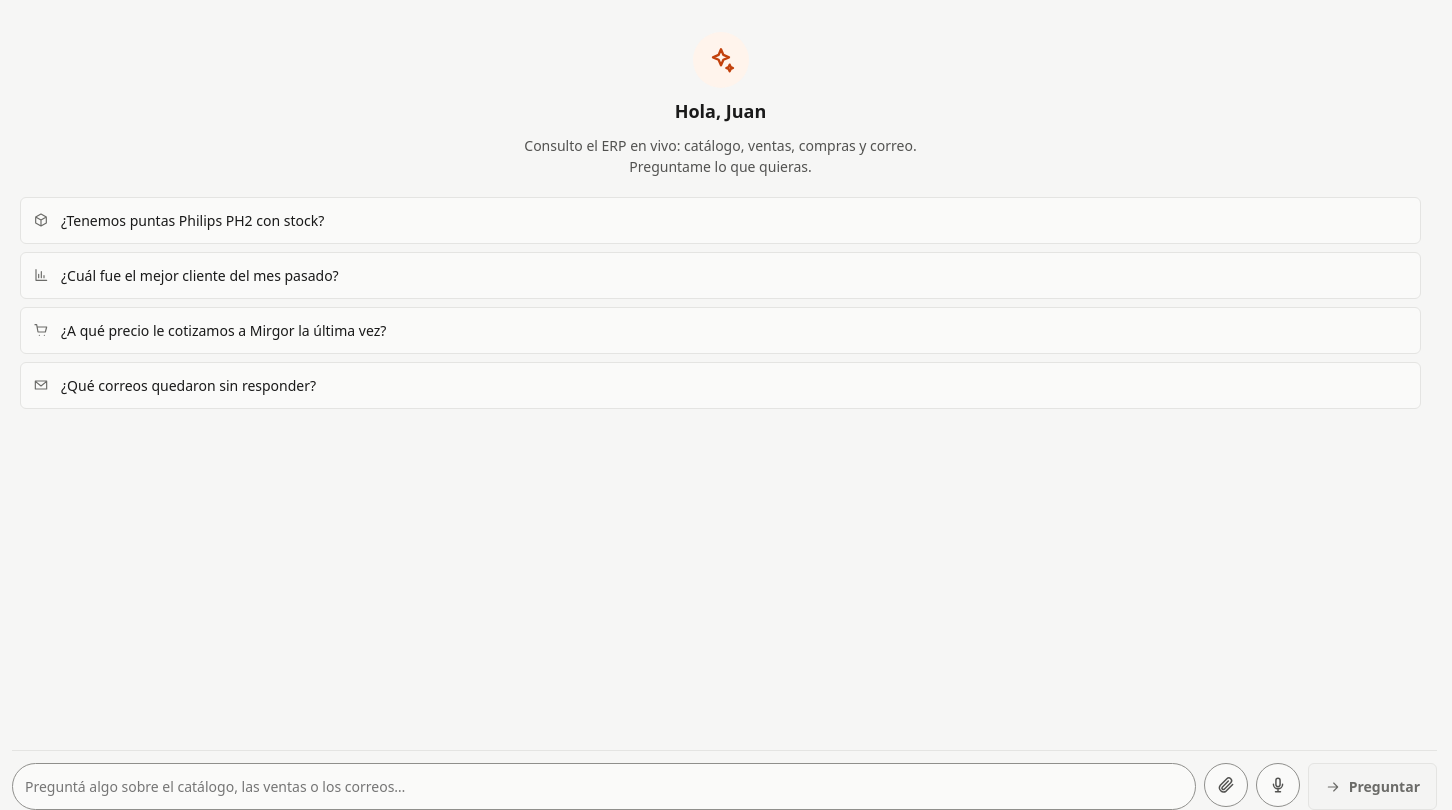
it: El chat del asistente › un fallo se muestra en el hilo y no rompe la pantalla
The image size is (1452, 810).
Type "algo" into the field named "Tu pregunta" at (604, 786), box [12,763,1196,809]
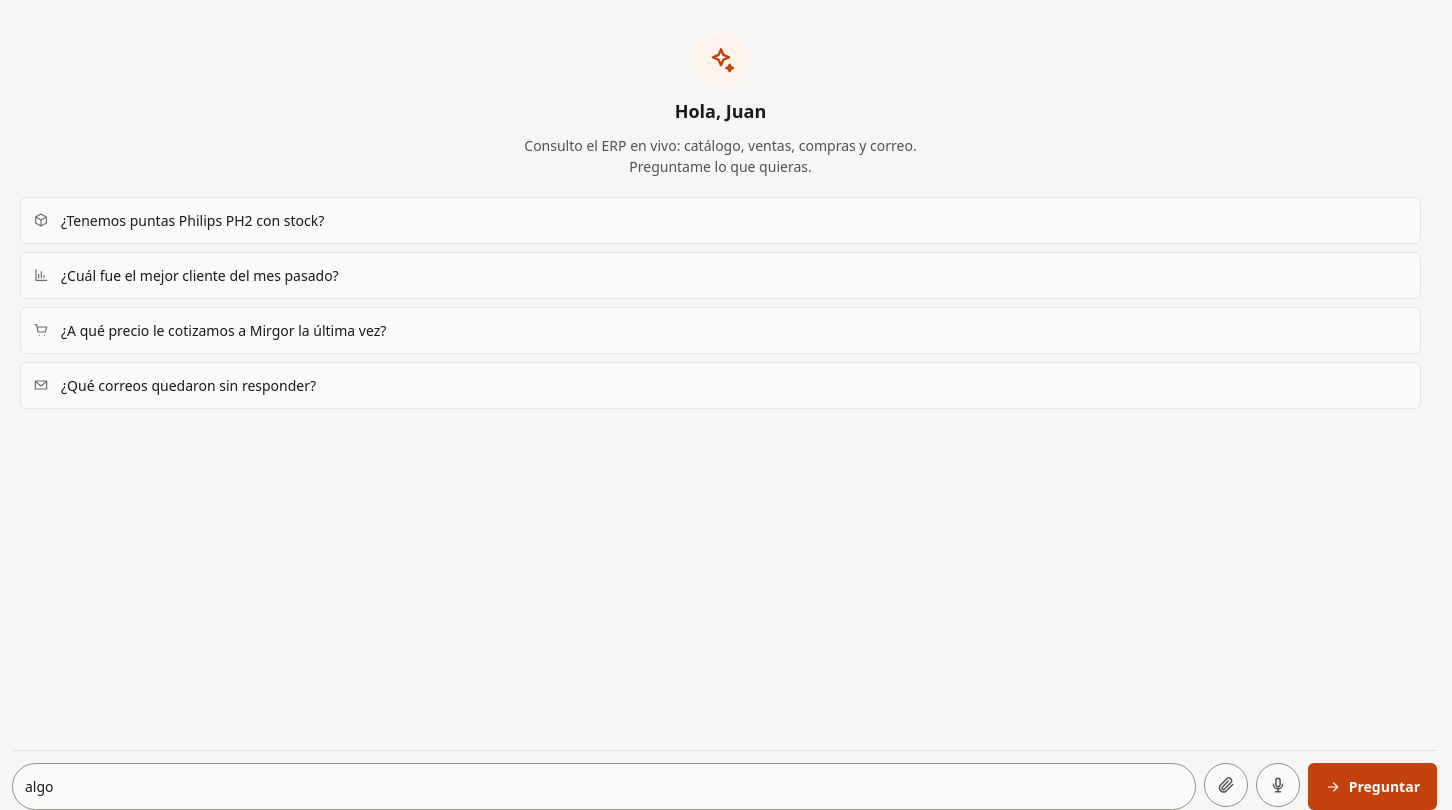
Click the button "Preguntar" at (1372, 786), box [1308,763,1437,809]
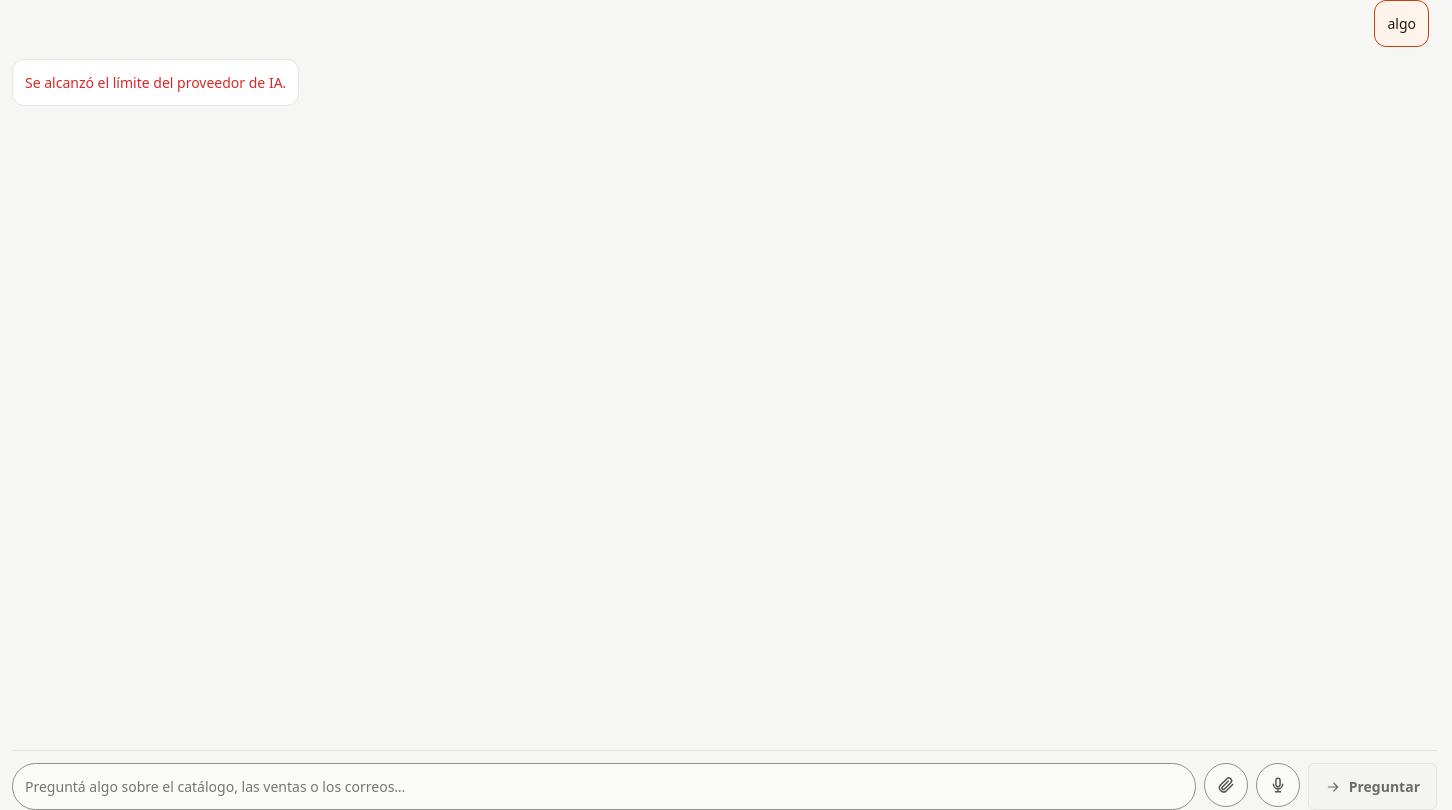
expect the field named "Tu pregunta" is enabled: met, box [12,763,1196,809]
expect the text "Se alcanzó el límite del proveedor de IA." is shown: met, box [25,73,286,92]
